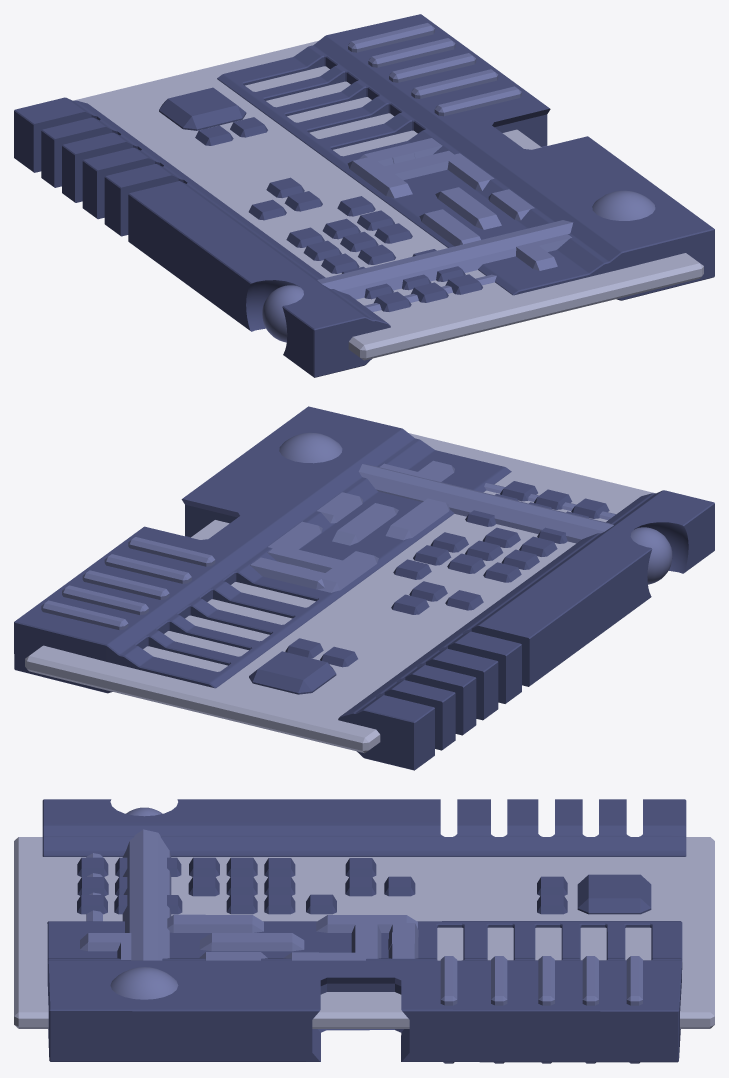
File: key card sci fi.fbx
The picture shows the model from 3 angles, top to bottom: view 1: azimuth 30°, elevation 25°; view 2: azimuth 150°, elevation 25°; view 3: azimuth 270°, elevation 25°; orthographic projection. The views are drawn at different scales.
Parts seen in each view (by area): view 1: pCube121; view 2: pCube121; view 3: pCube121.
Part boxes in pixels (x1,y1,x2,y2): pCube121: [14, 14, 714, 377]; pCube121: [14, 406, 714, 770]; pCube121: [14, 799, 714, 1063].
Bounding box in the file's own units: 93.71 × 16.9 × 131.
